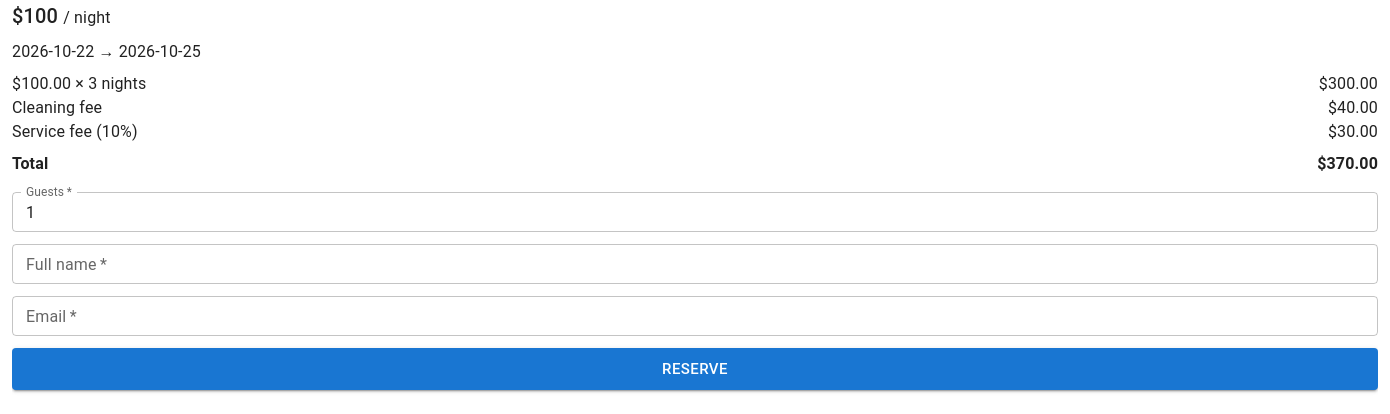
Test: BookingPanel › recovers from a 409: explains the conflict and refreshes availability
Type "Ada Lovelace" into the field labelled "Full name *" at (695, 264), box [12, 244, 1378, 284]
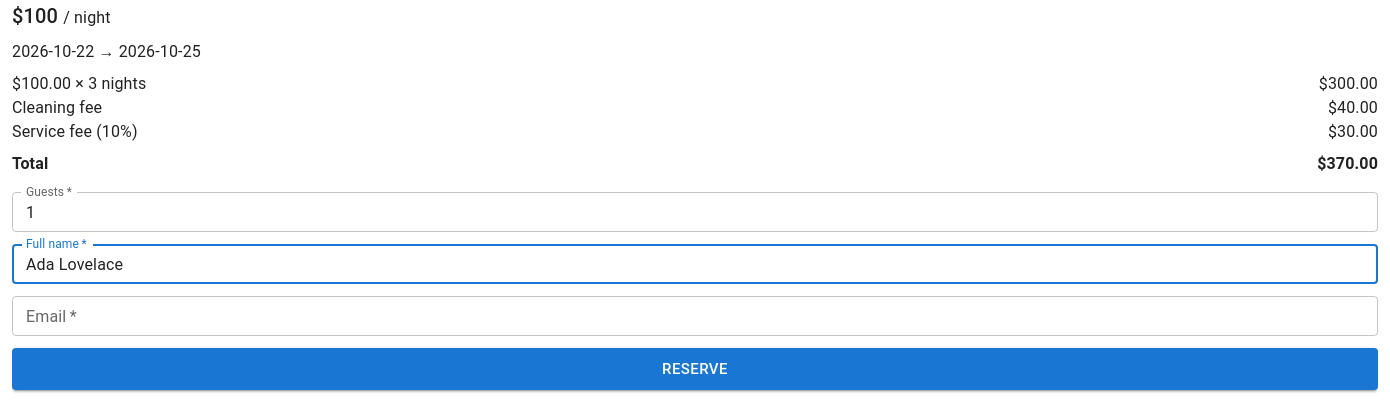
Type "ada@example.com" into the field labelled "Email *" at (695, 316), box [12, 296, 1378, 336]
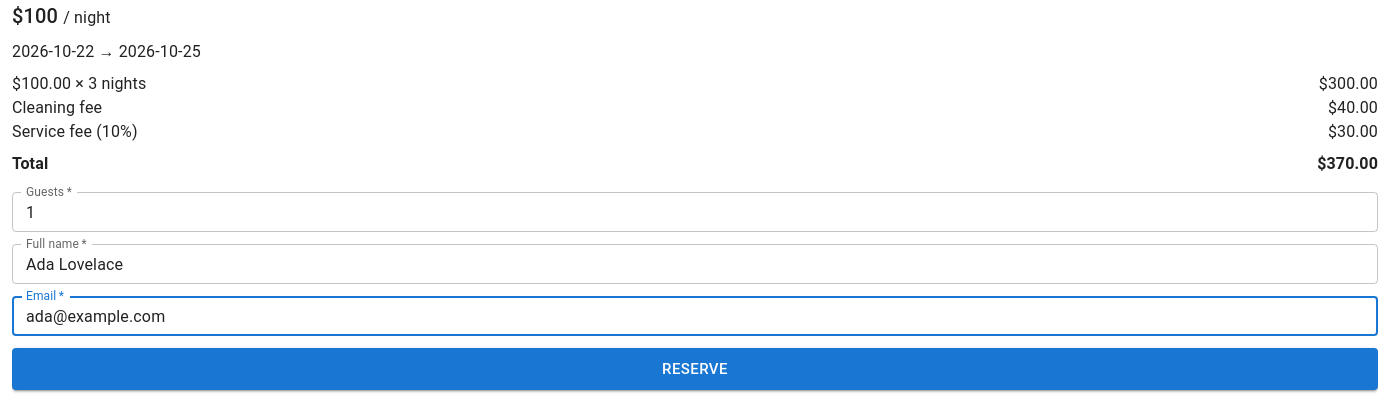
Click the button "Reserve" at (695, 369), box [12, 348, 1378, 390]
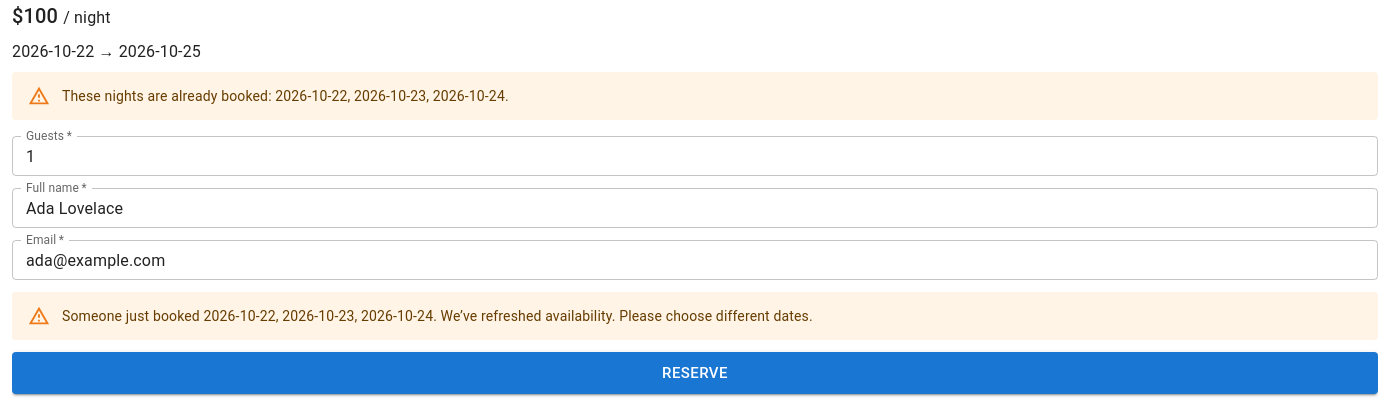
Now the text "These nights are already booked" is shown, box [62, 88, 509, 104]
